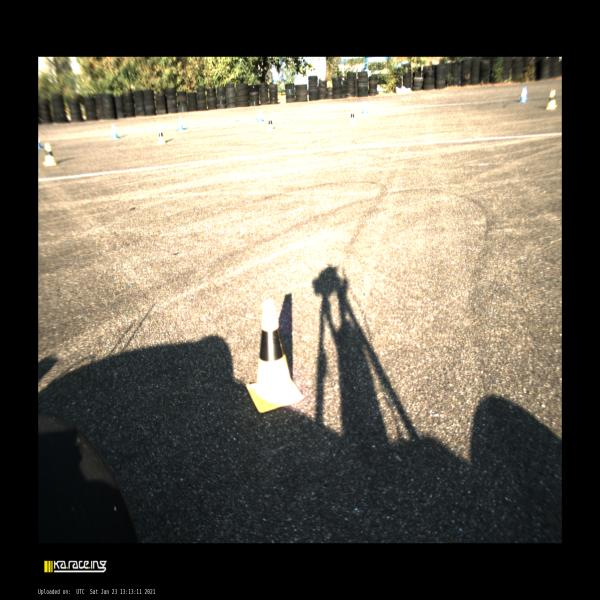blue_cone: (520, 88, 527, 102), (178, 117, 185, 130), (111, 125, 118, 138), (362, 101, 368, 114), (257, 109, 263, 121), (38, 136, 43, 148)
yellow_cone: (245, 298, 305, 414), (43, 143, 56, 166), (548, 90, 558, 110), (157, 129, 165, 144), (266, 117, 274, 132), (349, 111, 356, 125)
